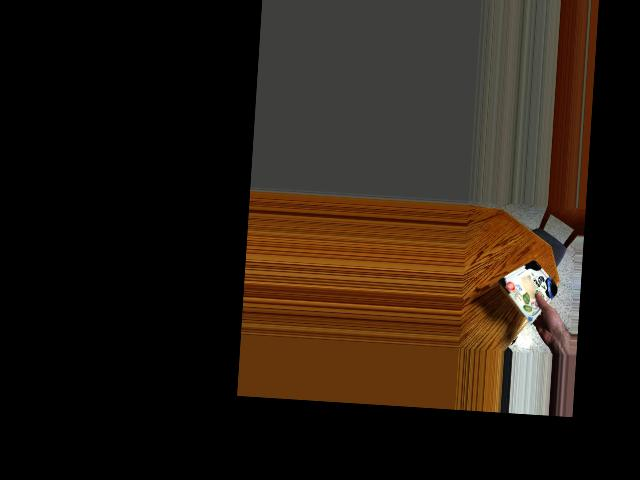cheese: (505, 260, 551, 319)
